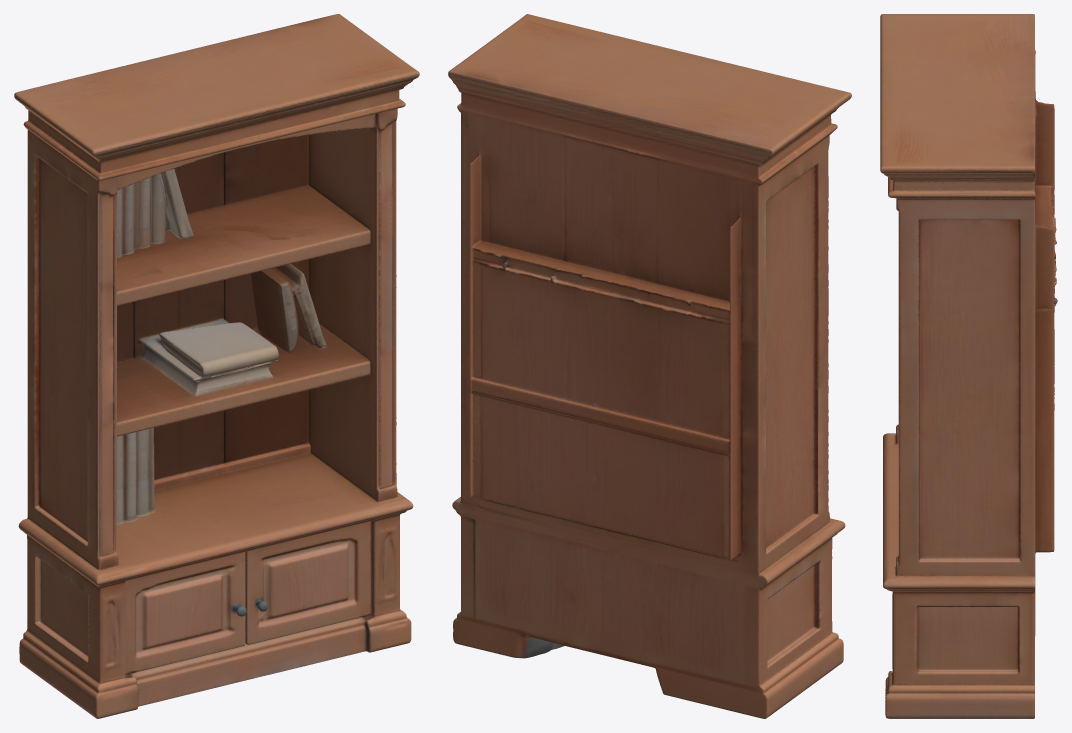
The model's file is detailed_realistic_model_antiquebookshelf_20.glb.
3 views of the same model, side by side, from view 1: azimuth 30°, elevation 25°; view 2: azimuth 150°, elevation 25°; view 3: azimuth 270°, elevation 25° (orthographic). The views are drawn at different scales.
Visible parts, largest first — view 1: tripo_node_45170737-706e-4473-8b4b-7aa02cd39d25; view 2: tripo_node_45170737-706e-4473-8b4b-7aa02cd39d25; view 3: tripo_node_45170737-706e-4473-8b4b-7aa02cd39d25.
Boxes of the visible parts, box(x1,y1,x2,y2) form: tripo_node_45170737-706e-4473-8b4b-7aa02cd39d25: box(14, 14, 419, 718); tripo_node_45170737-706e-4473-8b4b-7aa02cd39d25: box(448, 14, 851, 718); tripo_node_45170737-706e-4473-8b4b-7aa02cd39d25: box(880, 14, 1057, 718).
Size of the model in its own units: 0.5962 by 1 by 0.2891.
1 material, 1 textured.
